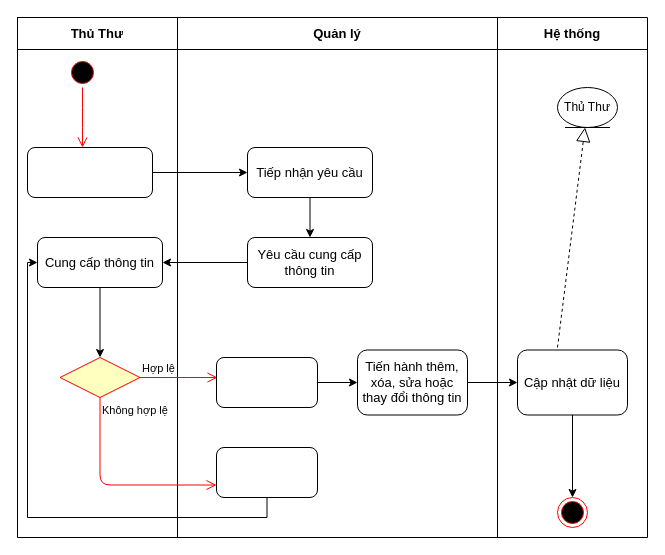
Some shapes in this 665 by 555 pixel diagram are drawn without their labels. The centre of each missing label's shape, as x and y in pixels:
Gặp quản lý yêu cầu thay đổi thông tin: (89,172)
Thông báo thông tin không hợp lệ: (267,472)
Vào giao diện quản lý thủ thư: (267,382)
